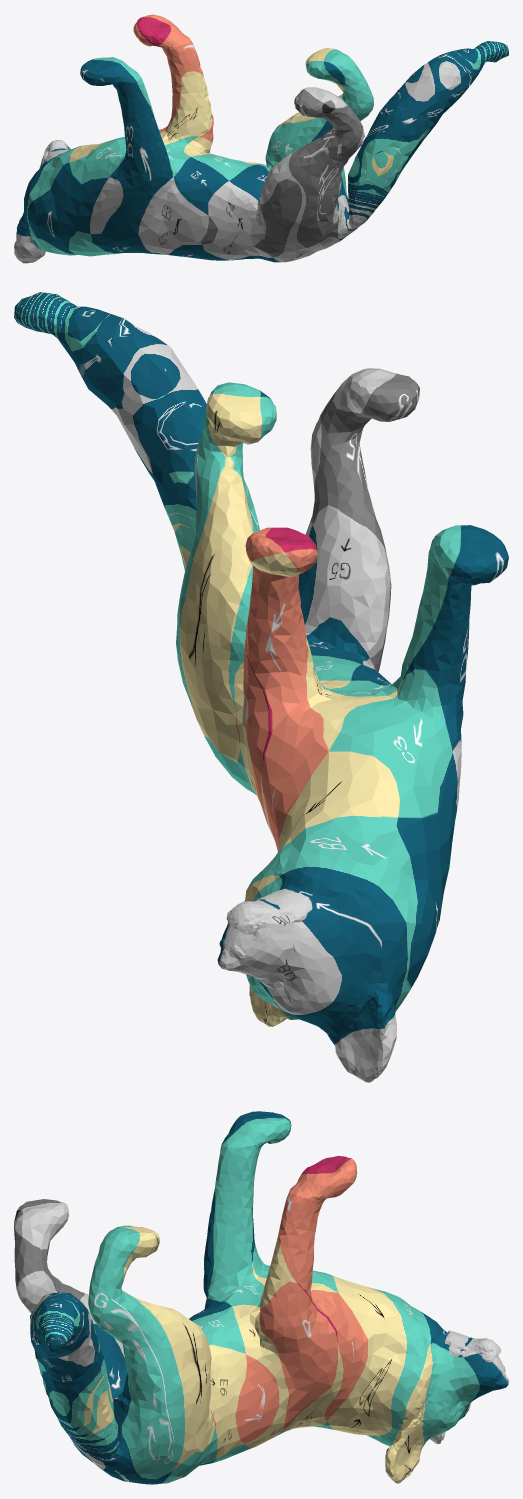
File: cow_04-fox_02.obj
3 views of the same model, one above another, from view 1: azimuth 30°, elevation 25°; view 2: azimuth 150°, elevation 25°; view 3: azimuth 270°, elevation 25° (orthographic). The views are drawn at different scales.
Visible parts, largest first — view 1: cow_04-fox_02_export; view 2: cow_04-fox_02_export; view 3: cow_04-fox_02_export.
Boxes of the visible parts, x1=… form: cow_04-fox_02_export: x1=14, y1=14, x2=508, y2=263; cow_04-fox_02_export: x1=14, y1=292, x2=508, y2=1082; cow_04-fox_02_export: x1=14, y1=1111, x2=508, y2=1484.
Size of the model in its own units: 0.8388 by 0.575 by 0.768.
